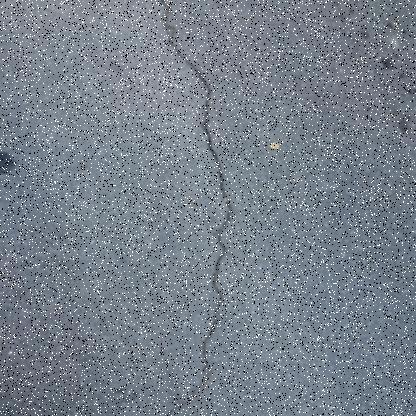Cracks: (142, 0, 241, 415)
